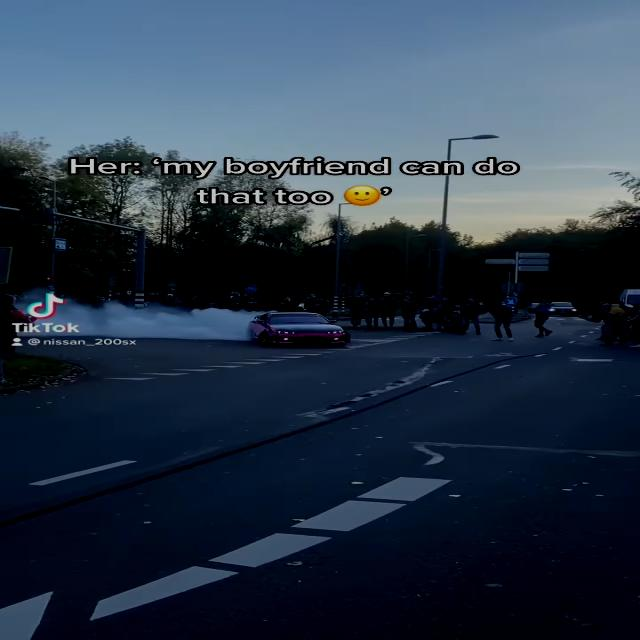car: (254, 311, 351, 355)
